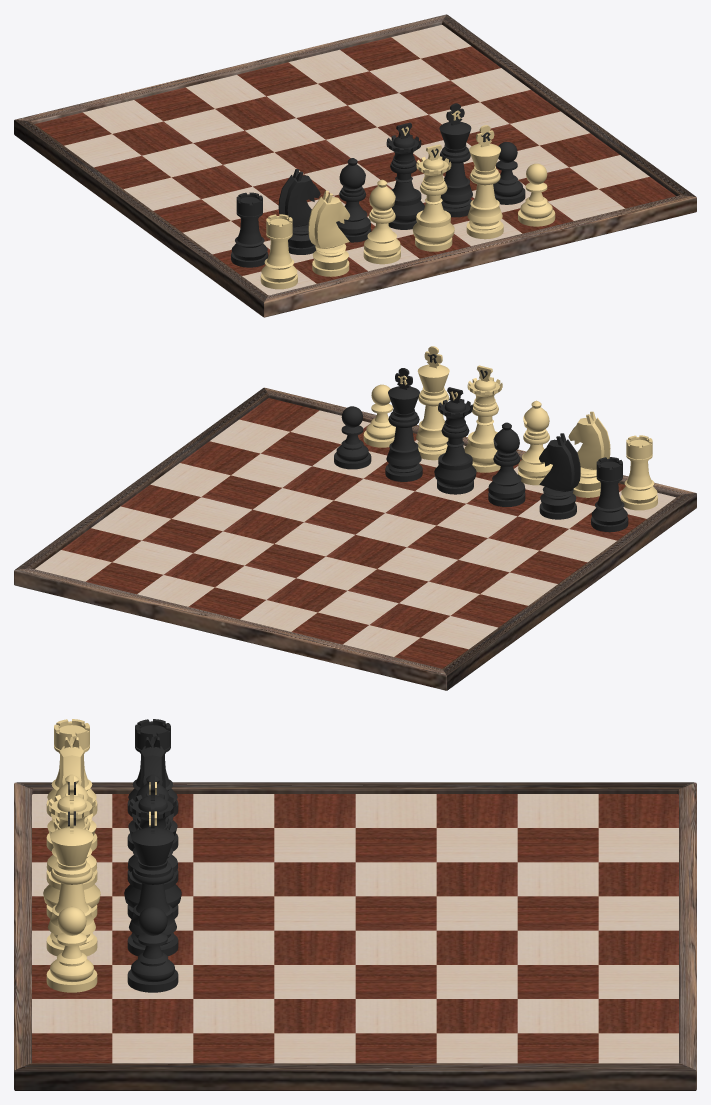
Rendered from 13_ChessSet.fbx.
3 views of the same model, one above another, from view 1: azimuth 30°, elevation 25°; view 2: azimuth 150°, elevation 25°; view 3: azimuth 270°, elevation 25° (orthographic). The views are drawn at different scales.
Parts seen in each view (by area): view 1: ChessBoard, Frame, KingWhite, QueenWhite, KnightWhite, KingBlack, QueenBlack, KnightBlack, BishopWhite, RookWhite, RookBlack, BishopBlack (+2 smaller); view 2: ChessBoard, Frame, KingBlack, QueenBlack, KnightBlack, KingWhite, QueenWhite, KnightWhite, BishopBlack, RookBlack, RookWhite, BishopWhite (+2 smaller); view 3: ChessBoard, Frame, KingBlack, KingWhite, PawnBlack, PawnWhite, QueenBlack, QueenWhite, RookBlack, RookWhite, KnightWhite, KnightBlack (+2 smaller).
Part boxes in pixels (bbox=[...]): ChessBoard: bbox=[34, 25, 675, 295]; Frame: bbox=[14, 14, 696, 317]; KingWhite: bbox=[466, 125, 503, 239]; QueenWhite: bbox=[412, 144, 454, 251]; KnightWhite: bbox=[308, 190, 349, 276]; KingBlack: bbox=[439, 103, 472, 217]; QueenBlack: bbox=[386, 122, 424, 229]; KnightBlack: bbox=[278, 169, 320, 254]; BishopWhite: bbox=[363, 179, 400, 264]; RookWhite: bbox=[260, 214, 297, 289]; RookBlack: bbox=[231, 192, 268, 267]; BishopBlack: bbox=[336, 158, 371, 242]; ChessBoard: bbox=[35, 398, 675, 668]; Frame: bbox=[14, 387, 696, 690]; KingBlack: bbox=[385, 368, 422, 481]; QueenBlack: bbox=[434, 387, 476, 494]; KnightBlack: bbox=[539, 433, 580, 519]; KingWhite: bbox=[416, 346, 449, 460]; QueenWhite: bbox=[464, 365, 502, 472]; KnightWhite: bbox=[568, 411, 610, 497]; BishopBlack: bbox=[488, 422, 525, 506]; RookBlack: bbox=[591, 457, 628, 532]; RookWhite: bbox=[620, 435, 657, 510]; BishopWhite: bbox=[518, 400, 552, 485]; ChessBoard: bbox=[32, 794, 678, 1063]; Frame: bbox=[14, 782, 696, 1090]; KingBlack: bbox=[127, 802, 178, 956]; KingWhite: bbox=[46, 802, 97, 956]; PawnBlack: bbox=[127, 906, 178, 992]; PawnWhite: bbox=[46, 906, 97, 992]; QueenBlack: bbox=[124, 776, 181, 918]; QueenWhite: bbox=[43, 776, 100, 918]; RookBlack: bbox=[127, 719, 178, 816]; RookWhite: bbox=[46, 719, 97, 816]; KnightWhite: bbox=[46, 737, 97, 850]; KnightBlack: bbox=[127, 737, 178, 850].
Bounding box in the file's own units: 843 × 221 × 843.
